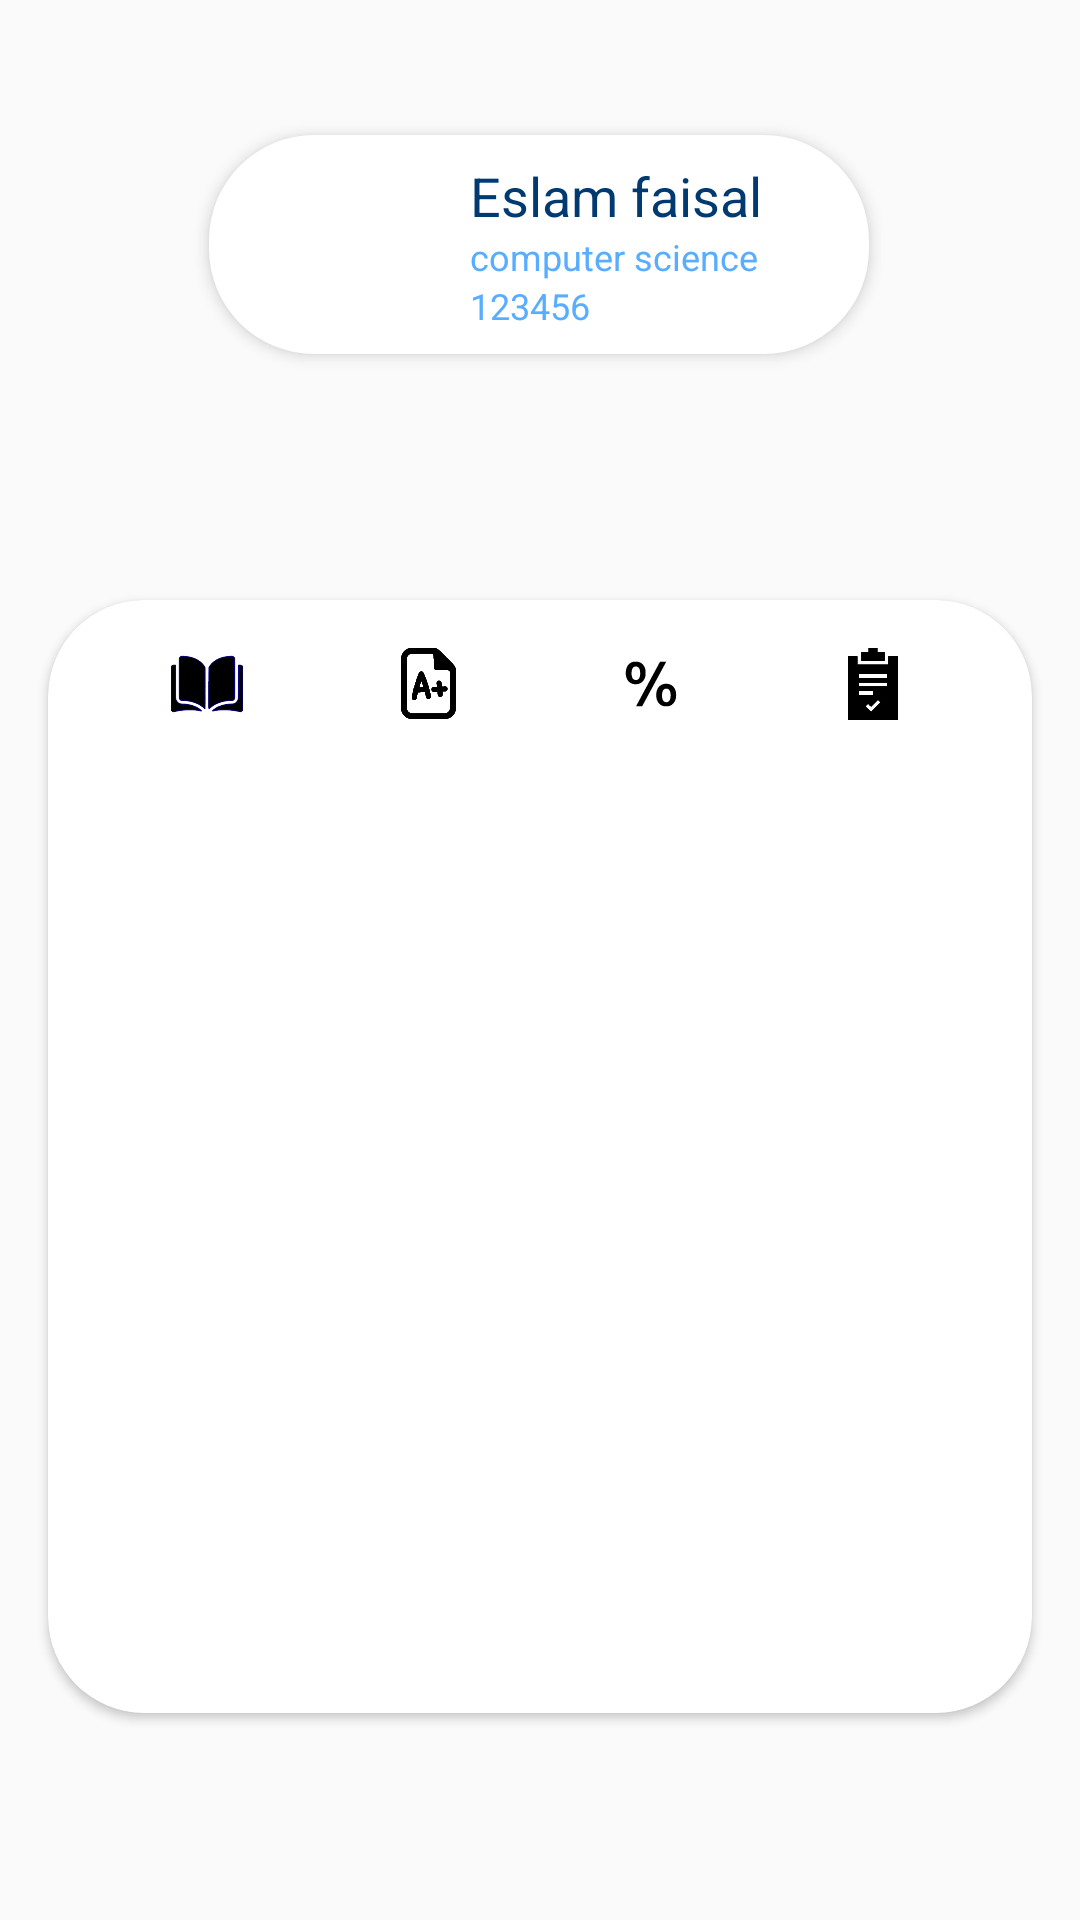

Where icons sit on this 1080 x 1920 app screen, as (x1, y1, x2, y2):
grade: (401, 648, 456, 719)
passed: (848, 648, 898, 720)
precentage: (625, 661, 677, 707)
